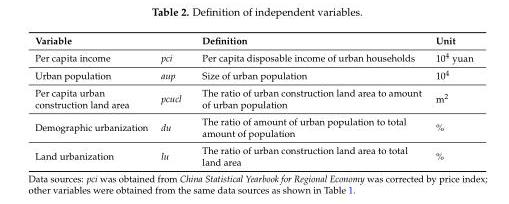table: (34, 34, 472, 167)
table column: (191, 34, 427, 167), (34, 34, 153, 167), (427, 34, 472, 167), (153, 34, 191, 167)
table column header: (34, 34, 472, 65)
table row: (34, 83, 472, 112), (34, 112, 472, 141), (34, 141, 472, 167), (34, 65, 472, 83), (34, 48, 472, 65), (34, 34, 472, 48)
table spanning cell: (191, 34, 427, 65), (34, 34, 191, 48), (427, 34, 472, 65)
